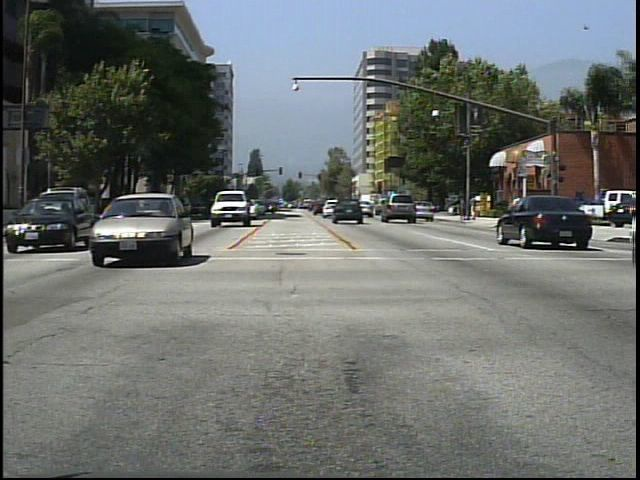person: (508, 192, 528, 231), (469, 191, 481, 224)
